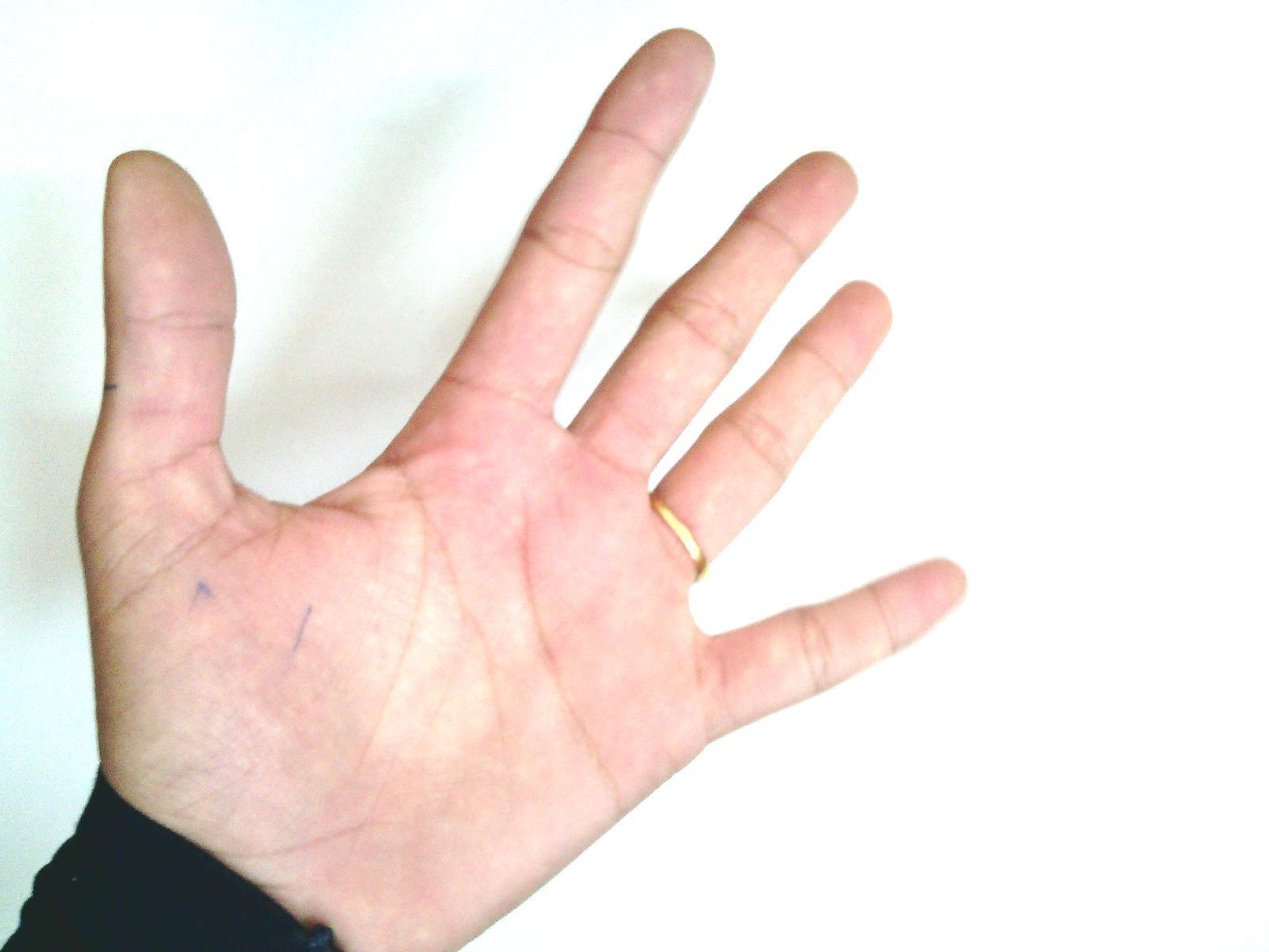open_palm: (72, 27, 971, 950)
